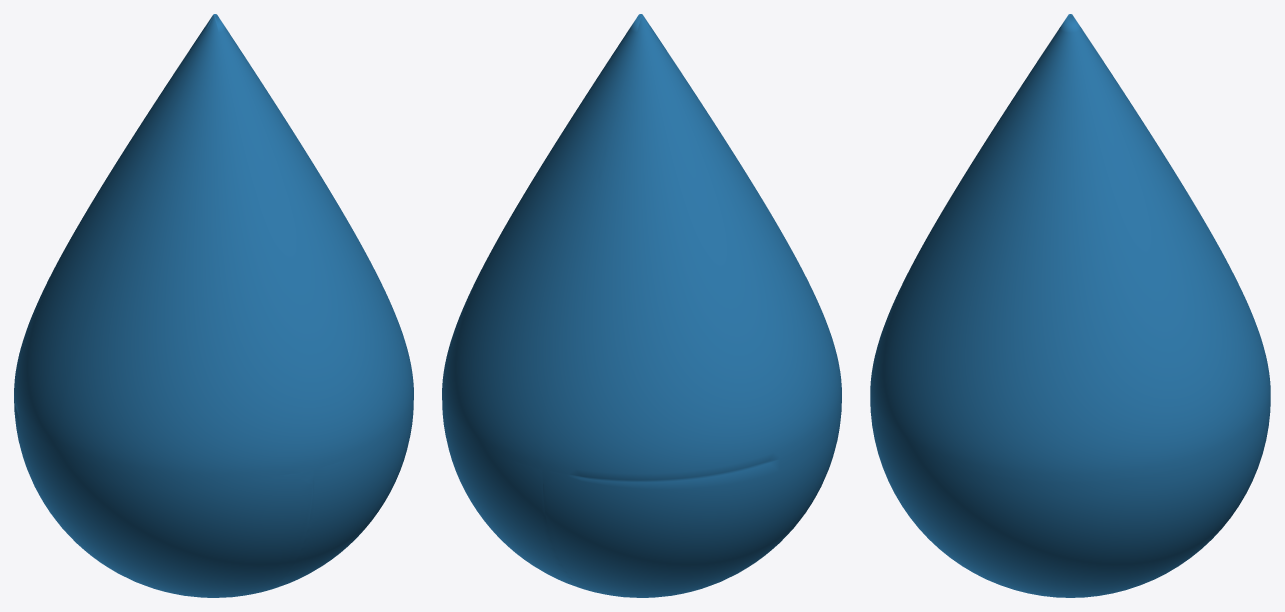
The model's file is drop.gltf.
The picture shows the model from 3 angles, left to right: view 1: azimuth 30°, elevation 25°; view 2: azimuth 150°, elevation 25°; view 3: azimuth 270°, elevation 25°; orthographic projection.
Parts seen in each view (by area): view 1: Object_2; view 2: Object_2; view 3: Object_2.
Boxes of the visible parts, x1,y1,x2,y2 form: Object_2: (14,14,413,597); Object_2: (442,14,841,597); Object_2: (870,14,1270,597).
Bounding box in the file's own units: 1.87 × 2.91 × 1.87.
1 material, 1 textured.
